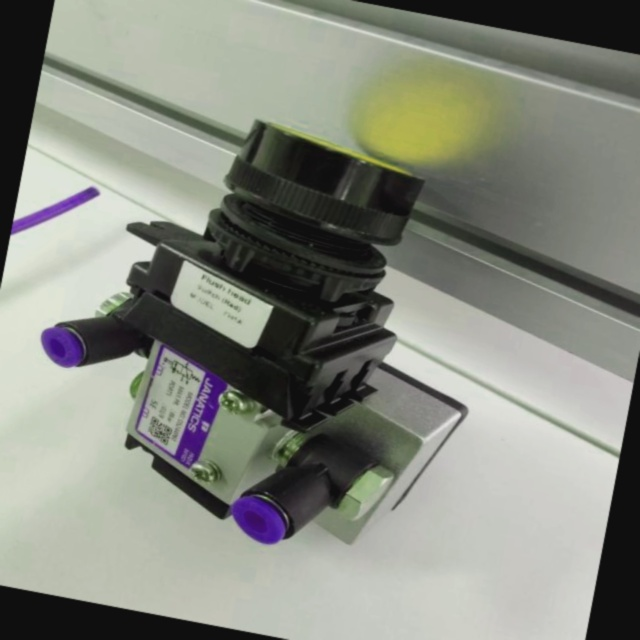push button: (11, 86, 514, 576)
